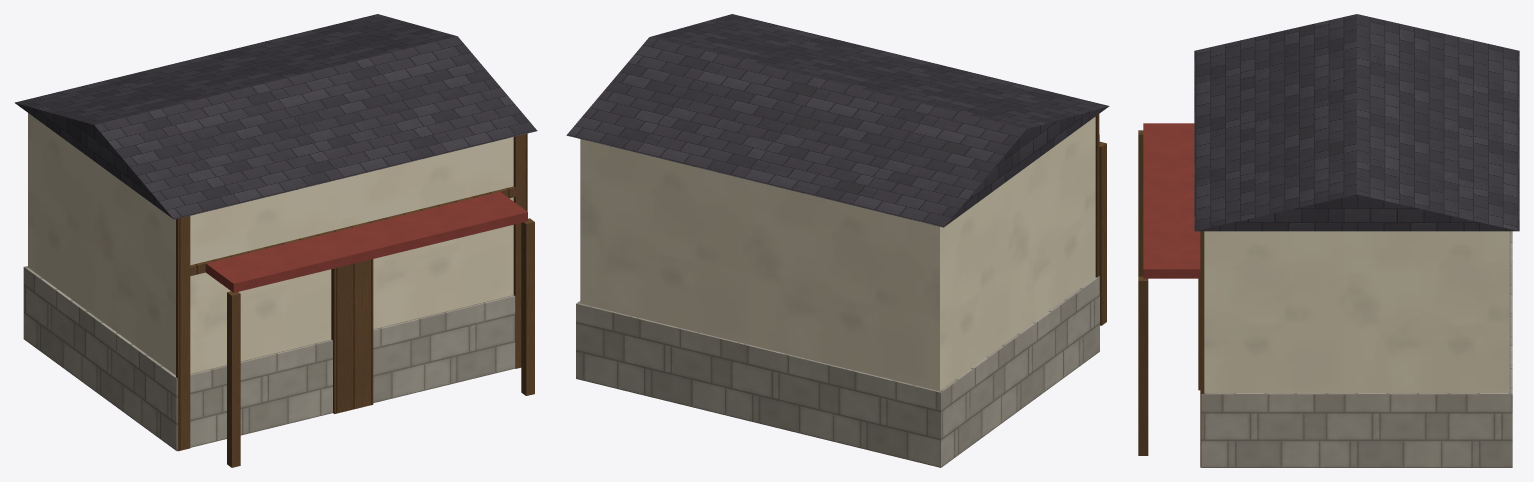
File: wing.dex.glb
3 renders of one model, left to right at view 1: azimuth 30°, elevation 25°; view 2: azimuth 150°, elevation 25°; view 3: azimuth 270°, elevation 25°, orthographic. The views are drawn at different scales.
Parts seen in each view (by area): view 1: castle.wing.dex; view 2: castle.wing.dex; view 3: castle.wing.dex.
Boxes of the visible parts, x1=… form: castle.wing.dex: x1=14, y1=14, x2=537, y2=467; castle.wing.dex: x1=566, y1=14, x2=1109, y2=467; castle.wing.dex: x1=1138, y1=14, x2=1519, y2=467.
Bounding box in the file's own units: 4.2 × 3 × 3.75.
Materials: 5 (5 with a texture image).
